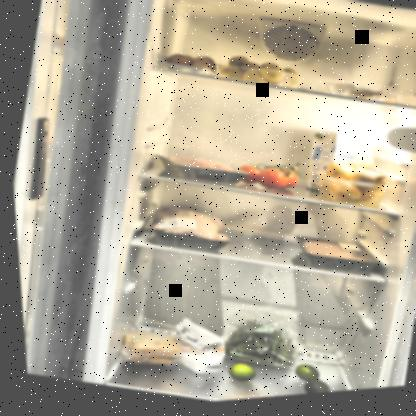chicken: (142, 201, 232, 257), (296, 240, 372, 280)
eggs: (163, 49, 217, 83)
green_beans: (213, 313, 305, 382)
ground_beef: (150, 149, 239, 194)
lime: (282, 364, 330, 398), (220, 363, 254, 390)
milk: (297, 130, 359, 207)
onion: (311, 160, 387, 219)
potato: (213, 51, 301, 100)
shrimp: (325, 82, 403, 118)
tomato: (229, 154, 302, 202)
